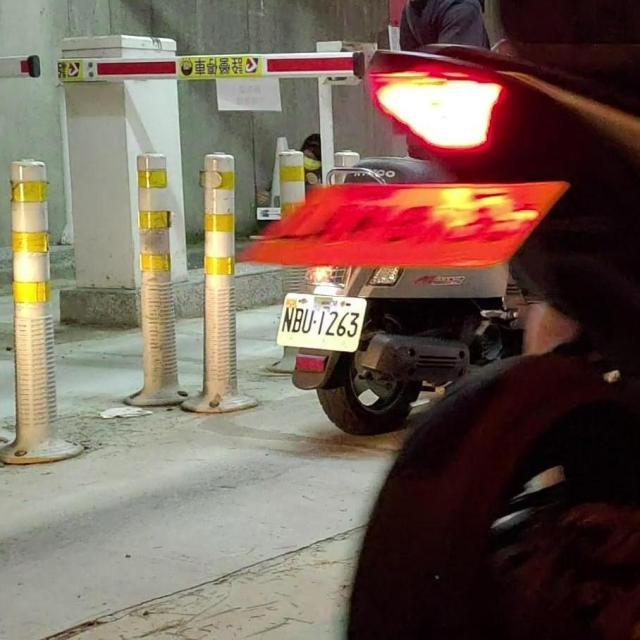W: (272, 288, 368, 353)
Y: (240, 173, 571, 274)
